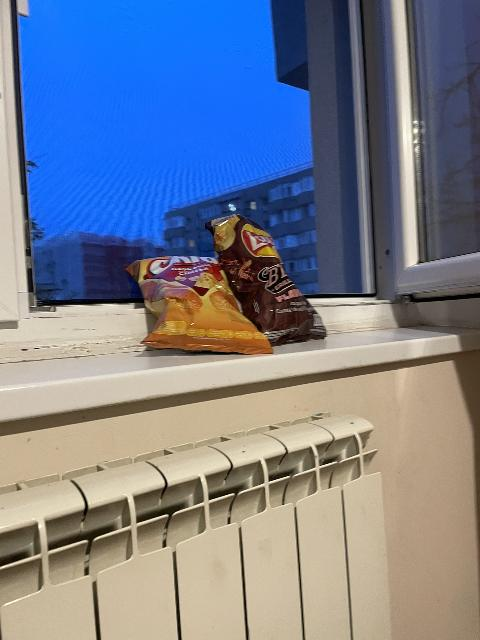Chio Cascaval 125g: (126, 256, 271, 353)
Lays Beef Grilled Ribs 125g: (208, 213, 322, 345)
